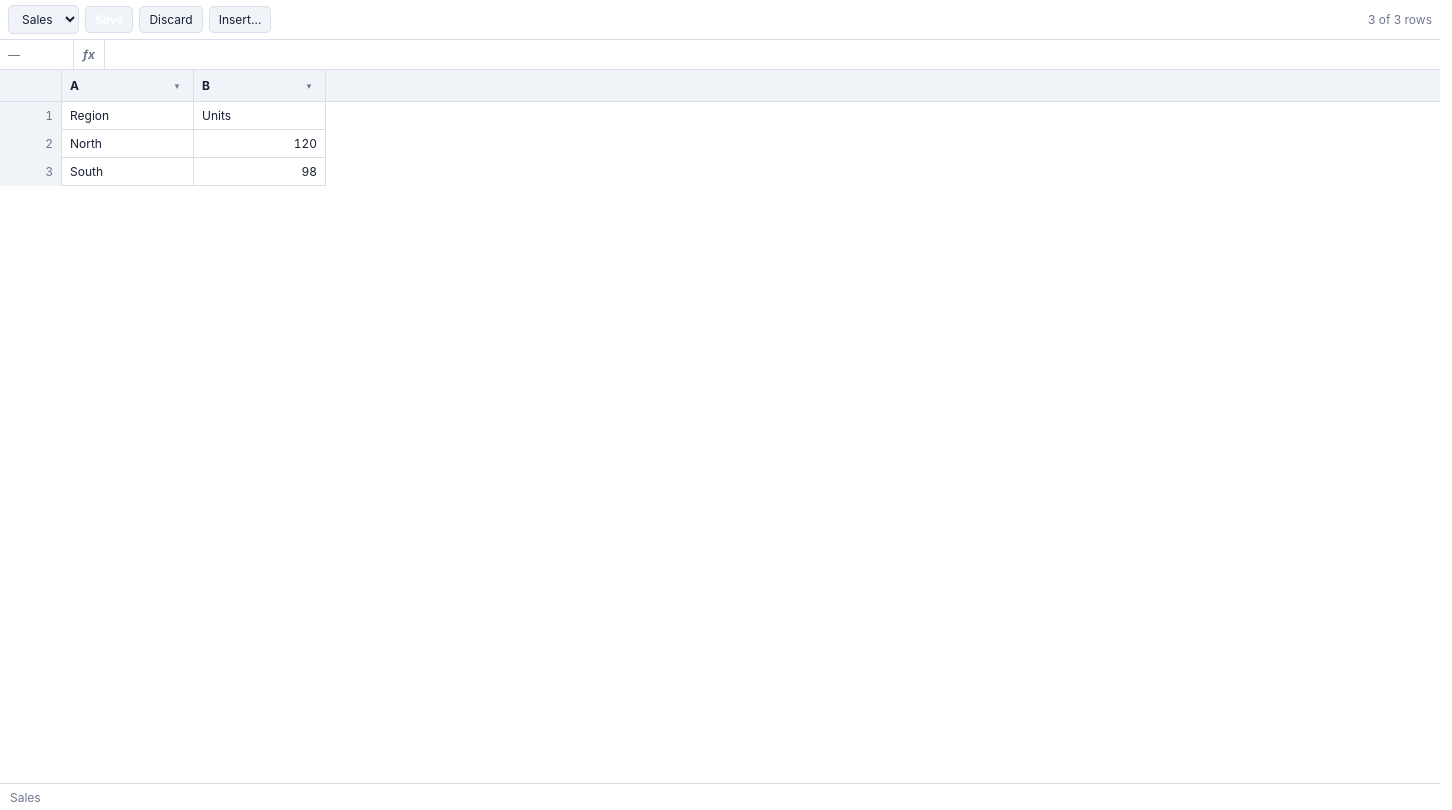
Test: SpreadsheetViewer › inserts a column to the left from the column header menu
Expected: the text "Region" is shown, left=62, top=102, right=194, bottom=130
Right-click the element showing "B ▾".
right_click(260, 86)  # box left=194, top=70, right=326, bottom=101
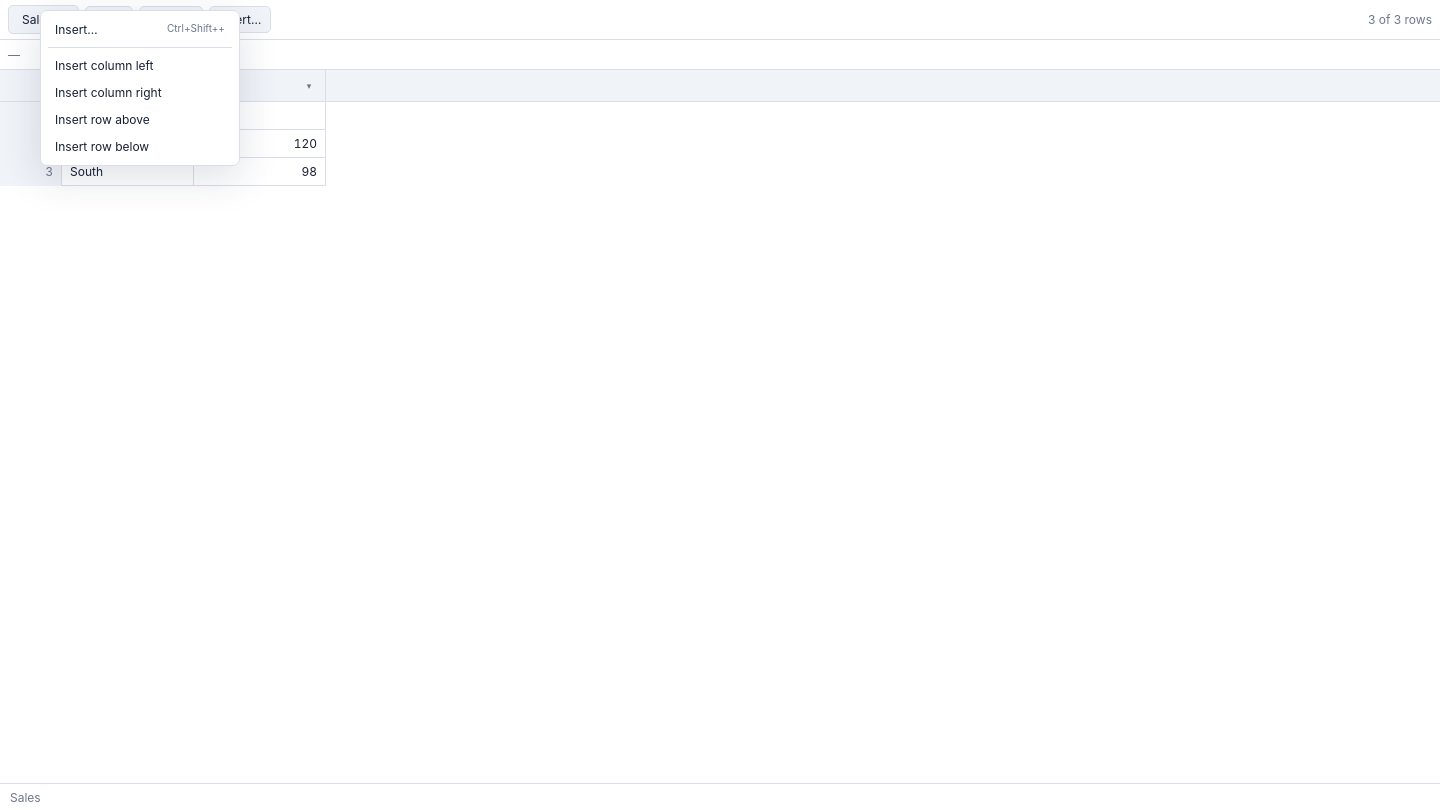
Click the menu item "Insert column left".
click(140, 66)  # box left=46, top=52, right=234, bottom=79
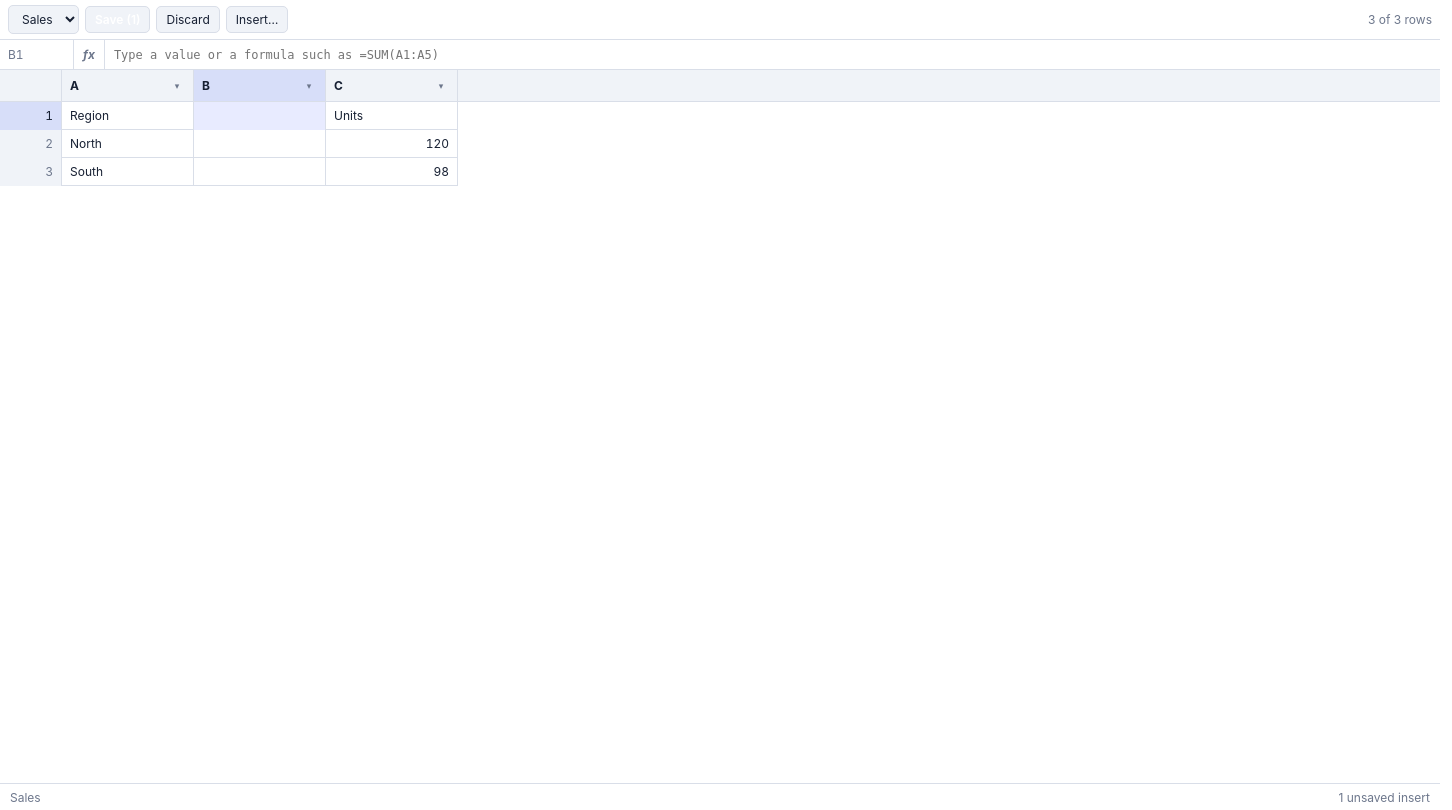
Expected: the number of elements with class "header-cell" is 4, left=0, top=70, right=62, bottom=101; left=62, top=70, right=194, bottom=101; left=194, top=70, right=326, bottom=101; left=326, top=70, right=458, bottom=101
